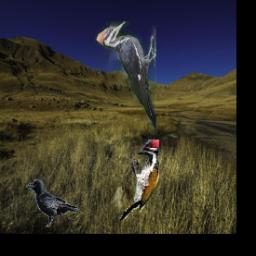Crow: (26, 179, 78, 227)
Woodpecker: (95, 22, 156, 134), (118, 140, 159, 221)
